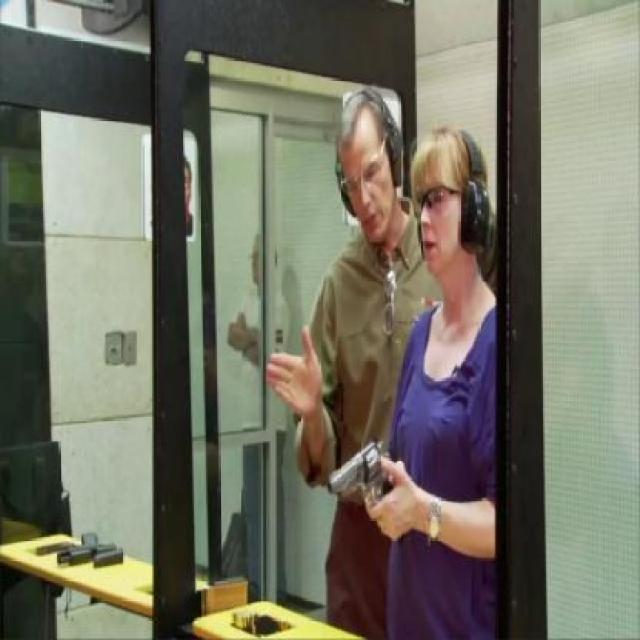gun: (326, 438, 397, 514)
